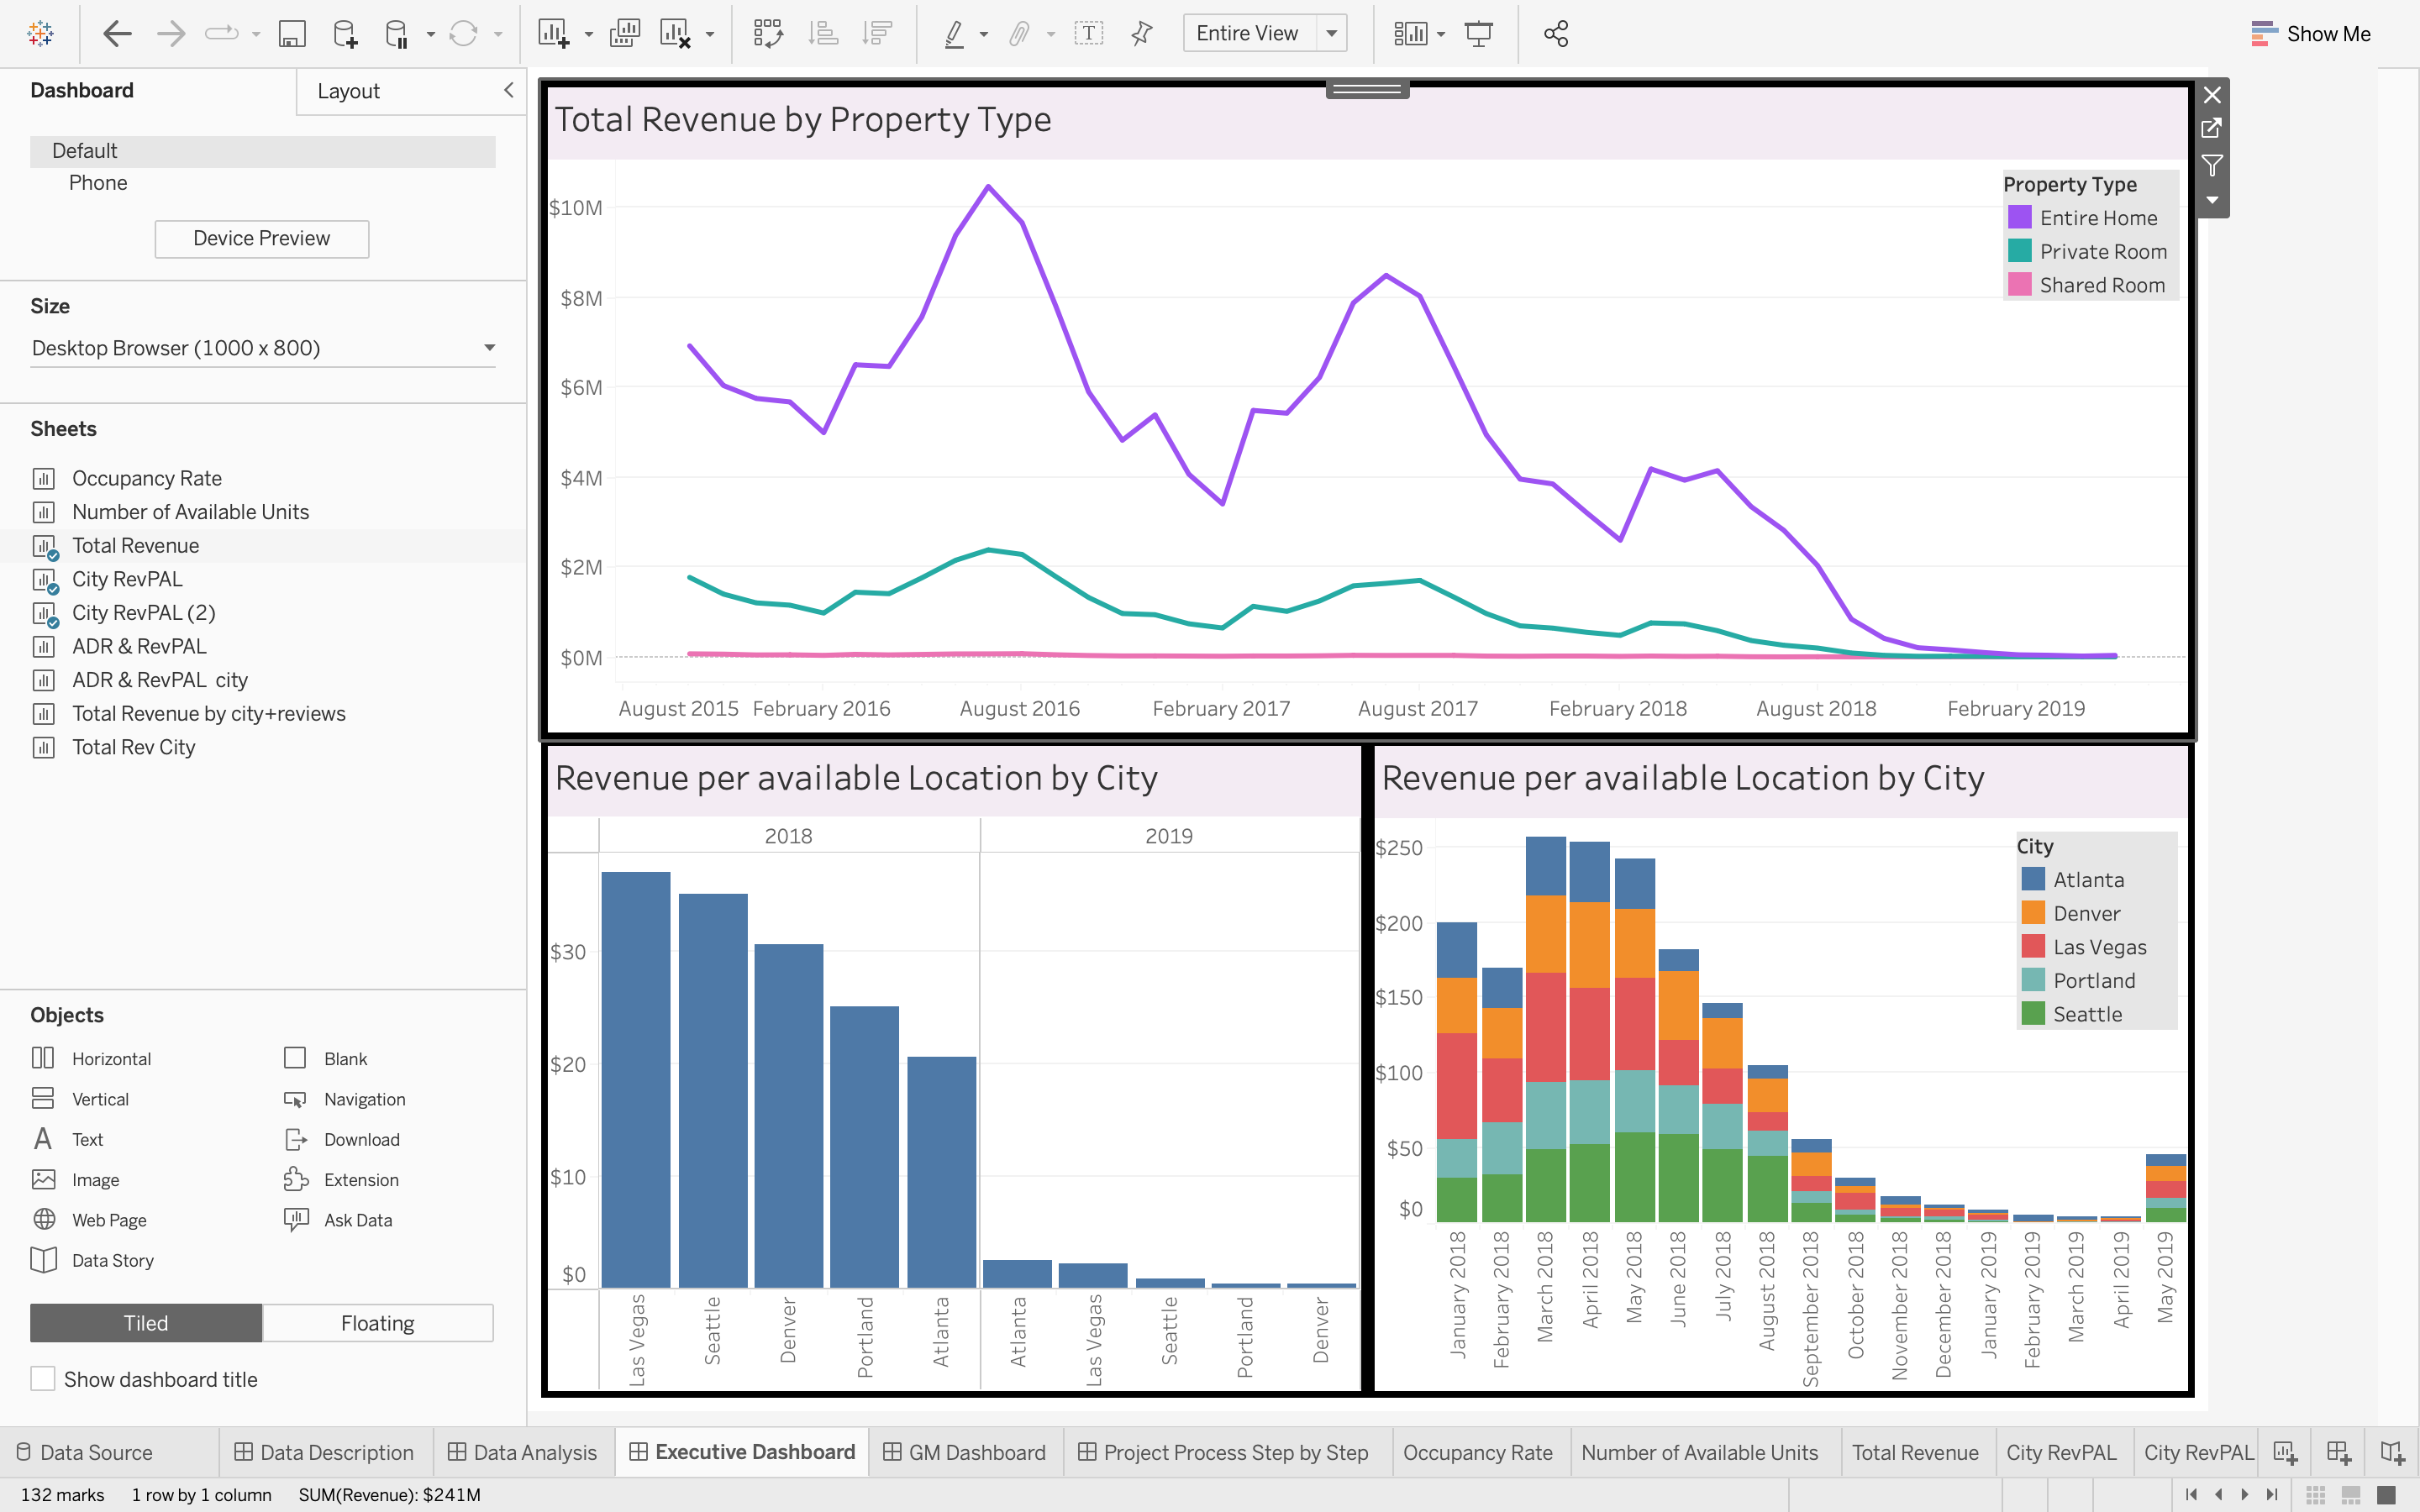

What the dashboard file says about the page in this screenshot:
{"tool":"tableau","page":{"name":"Executive Dashboard","canvas":[1000,800],"ordinal":2},"visuals":[{"type":"worksheet","title":"Total Revenue","mark":"Automatic","rows":["revenue"],"cols":["booking_month"],"box":[8,8,984,392]},{"type":"legend","title":"Total Revenue","param":"[federated.05sq8ha0v0raol1953nao15doiwz].[none:Calculation_4419931223989948421:n","box":[878,61,105,78]},{"type":"worksheet","title":"City RevPAL","mark":"Bar","rows":["Calculation_4419931223732903939"],"cols":["booking_month","city"],"box":[8,400,492,392]},{"type":"worksheet","title":"City RevPAL (2)","mark":"Bar","rows":["Calculation_4419931223732903939"],"cols":["booking_month"],"box":[500,400,492,392]},{"type":"legend","title":"City RevPAL (2)","param":"[federated.05sq8ha0v0raol1953nao15doiwz].[none:city:nk]","box":[886,455,96,118]}]}

Visuals, with their boxes on the page's 1000x800 design canvas (x1, y1, x2, y2). These are canvas units, not pixel positions in the 2420x1512 screenshot, which may show the page scaled, cropped or inside an application window:
"Total Revenue" worksheet: box=[8, 8, 992, 400]
"Total Revenue" legend: box=[878, 61, 983, 139]
"City RevPAL" worksheet (Bar marks): box=[8, 400, 500, 792]
"City RevPAL (2)" worksheet (Bar marks): box=[500, 400, 992, 792]
"City RevPAL (2)" legend: box=[886, 455, 982, 573]
